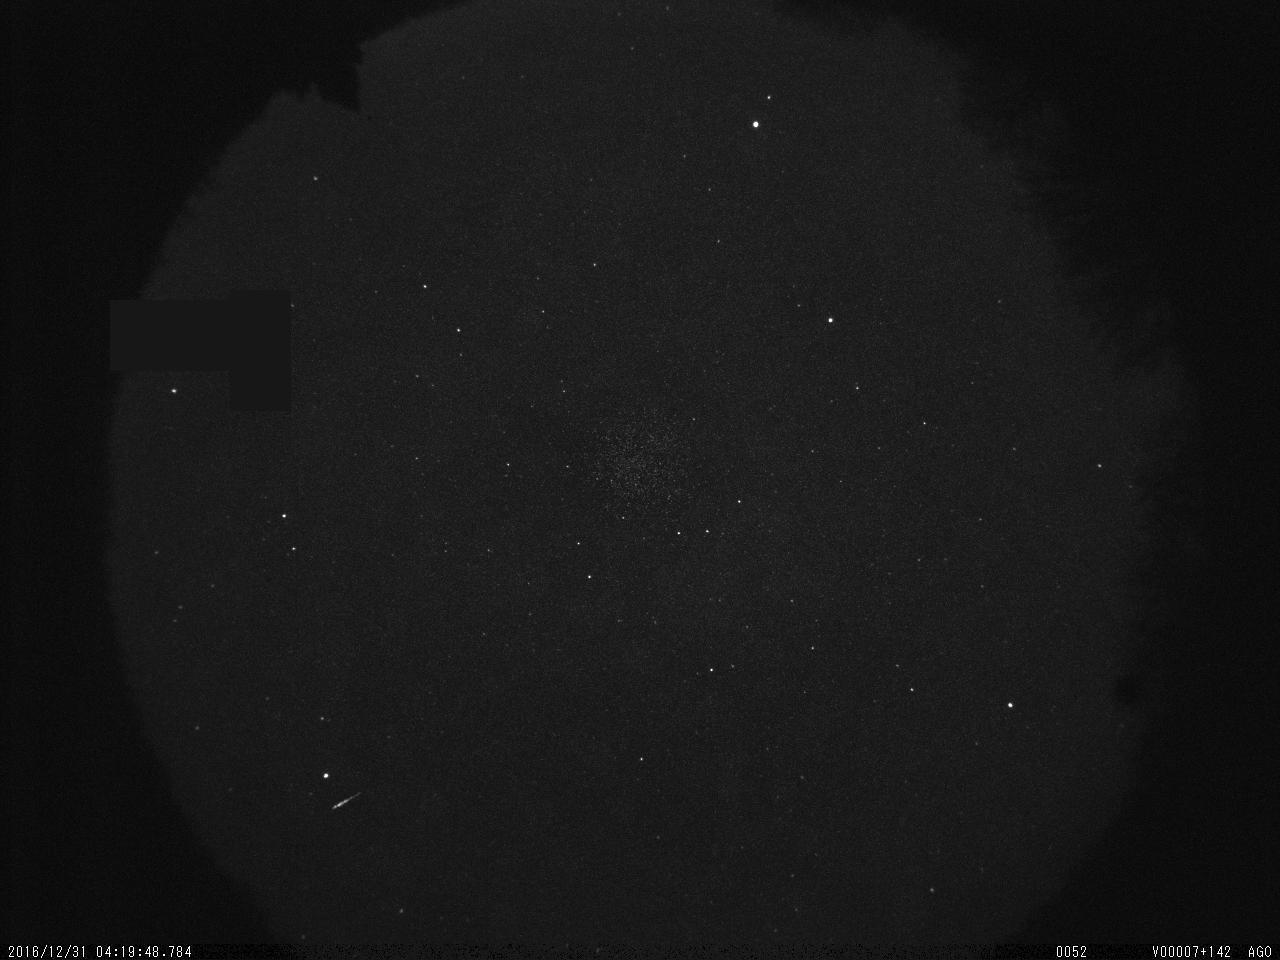meteor: (322, 795, 379, 818)
